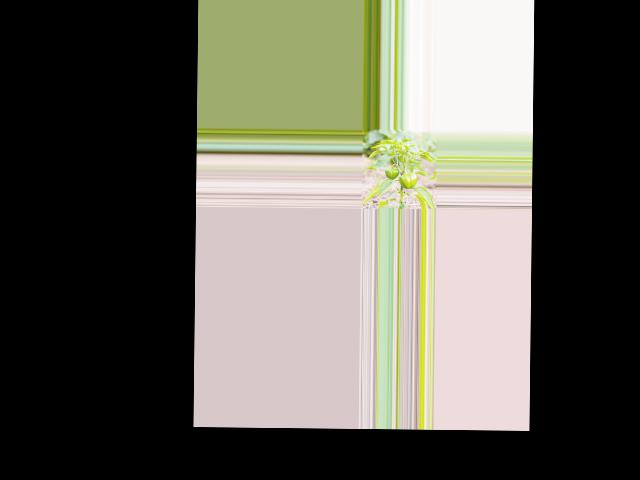bell_pepper: (384, 166, 399, 180)
